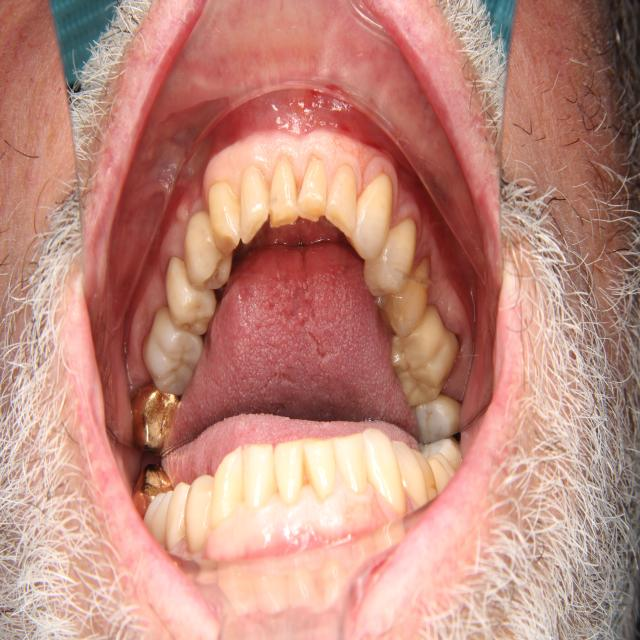tooth: (384, 301, 464, 413), (139, 301, 208, 401), (360, 216, 423, 298), (376, 256, 435, 343), (344, 168, 395, 264), (180, 206, 235, 295), (164, 251, 219, 340), (127, 380, 183, 457), (204, 175, 248, 260), (235, 160, 274, 249), (408, 386, 468, 440), (322, 162, 361, 240), (268, 153, 301, 233), (296, 151, 330, 226)
